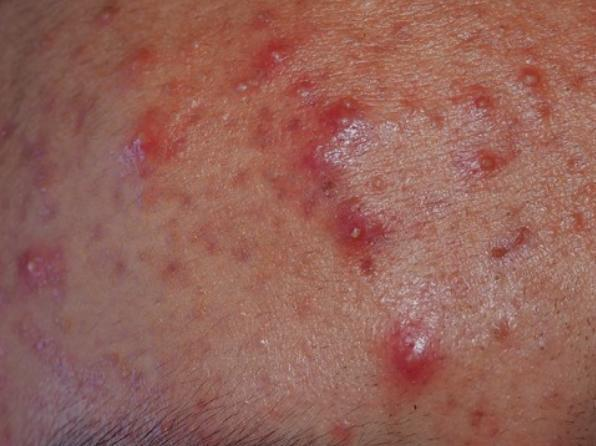papular: (382, 329, 449, 391), (117, 33, 171, 94), (305, 151, 357, 187)
purulent: (9, 247, 43, 316), (460, 157, 506, 188), (469, 90, 504, 122), (343, 223, 379, 253), (256, 46, 291, 72), (518, 63, 534, 111)
sebo-crystan-conglo: (118, 109, 166, 192), (326, 99, 387, 149), (227, 73, 265, 107)
